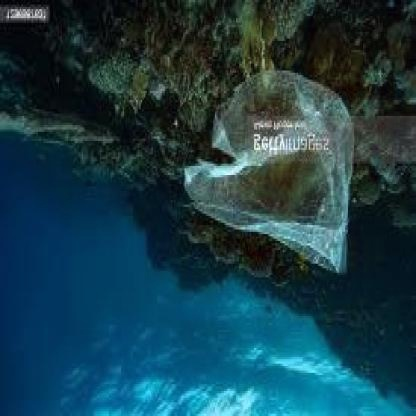pbag: (183, 68, 356, 275)
